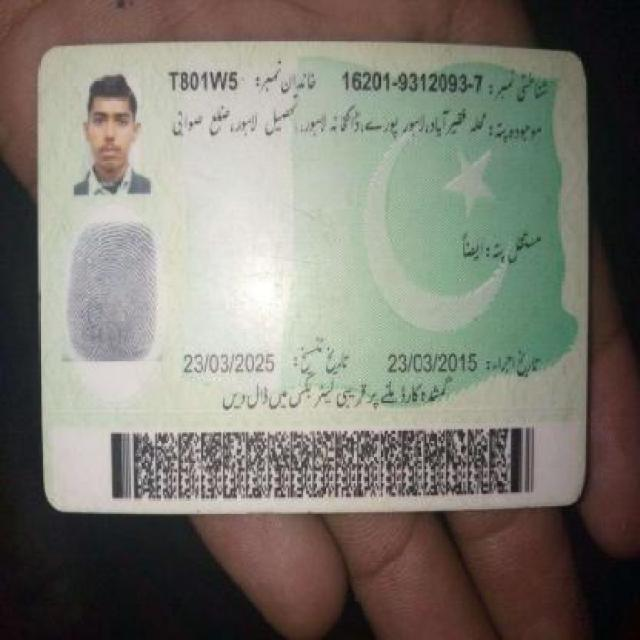Back: (32, 37, 585, 506)
